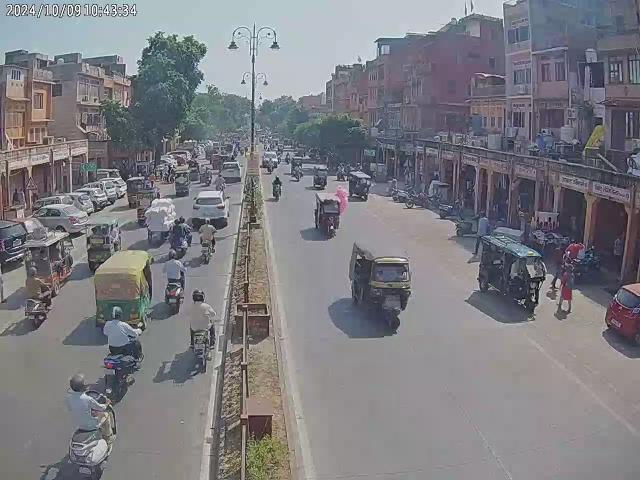auto: (475, 228, 547, 316), (92, 246, 154, 336), (348, 241, 412, 324), (24, 226, 74, 292), (84, 218, 122, 268), (314, 192, 342, 238), (134, 184, 161, 224), (347, 170, 373, 201), (125, 176, 144, 205), (172, 168, 189, 196), (312, 165, 328, 189)
car: (32, 204, 89, 236), (190, 189, 230, 229), (219, 161, 242, 184)
helmet: (66, 372, 88, 392), (190, 288, 207, 304), (109, 307, 126, 320), (28, 266, 40, 276), (168, 250, 178, 258), (204, 217, 212, 225)
motorbike: (570, 254, 603, 286)
motorbike-rider: (100, 308, 144, 401), (188, 286, 216, 368), (168, 218, 192, 258), (198, 217, 218, 263), (272, 174, 282, 200)
person: (556, 266, 574, 312)
scooty: (452, 214, 482, 236), (437, 201, 464, 221)
scooty-rider: (64, 372, 120, 480), (24, 264, 56, 330), (164, 252, 186, 312)
